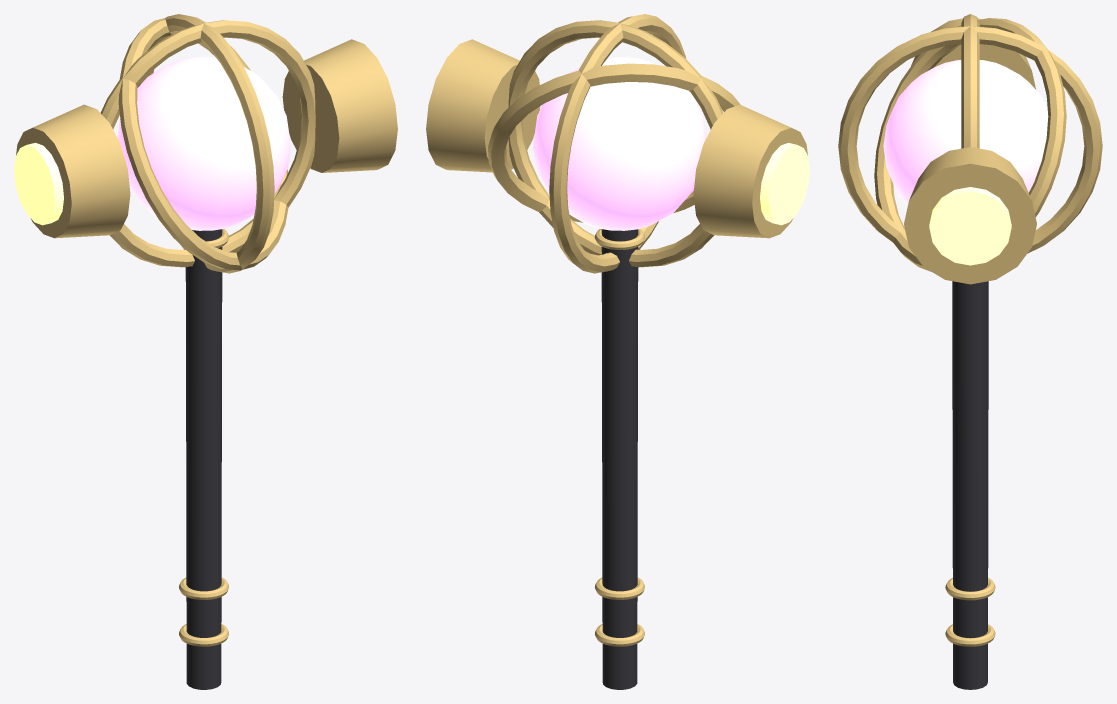
File: martillo_singularidad.glb
3 renders of one model, left to right at view 1: azimuth 30°, elevation 25°; view 2: azimuth 150°, elevation 25°; view 3: azimuth 270°, elevation 25°, orthographic.
Parts seen in each view (by area): view 1: martillo_singularidad; view 2: martillo_singularidad; view 3: martillo_singularidad.
Part boxes in pixels (box(x1,y1,x2,y2)): martillo_singularidad: box(14, 14, 397, 689); martillo_singularidad: box(426, 14, 809, 689); martillo_singularidad: box(838, 14, 1102, 689).
Bounding box in the file's own units: 0.76 × 1.41 × 0.516.
